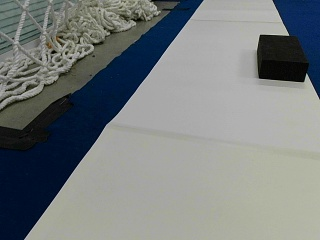block: (256, 34, 308, 82)
